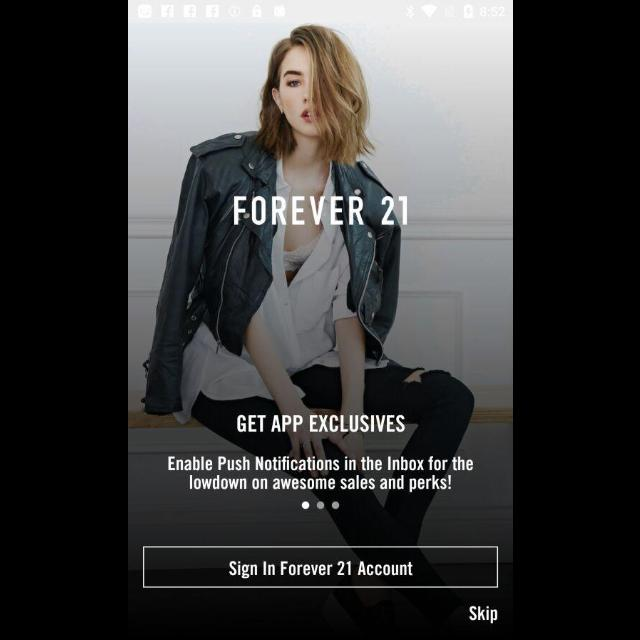backgroundimage: (128, 24, 512, 640)
pageindicator: (300, 502, 340, 511)
text: (168, 455, 474, 493), (233, 196, 407, 226), (237, 415, 406, 433), (468, 606, 498, 624)
textbutton: (142, 546, 498, 588)
uppertaskbar: (128, 1, 512, 23)
